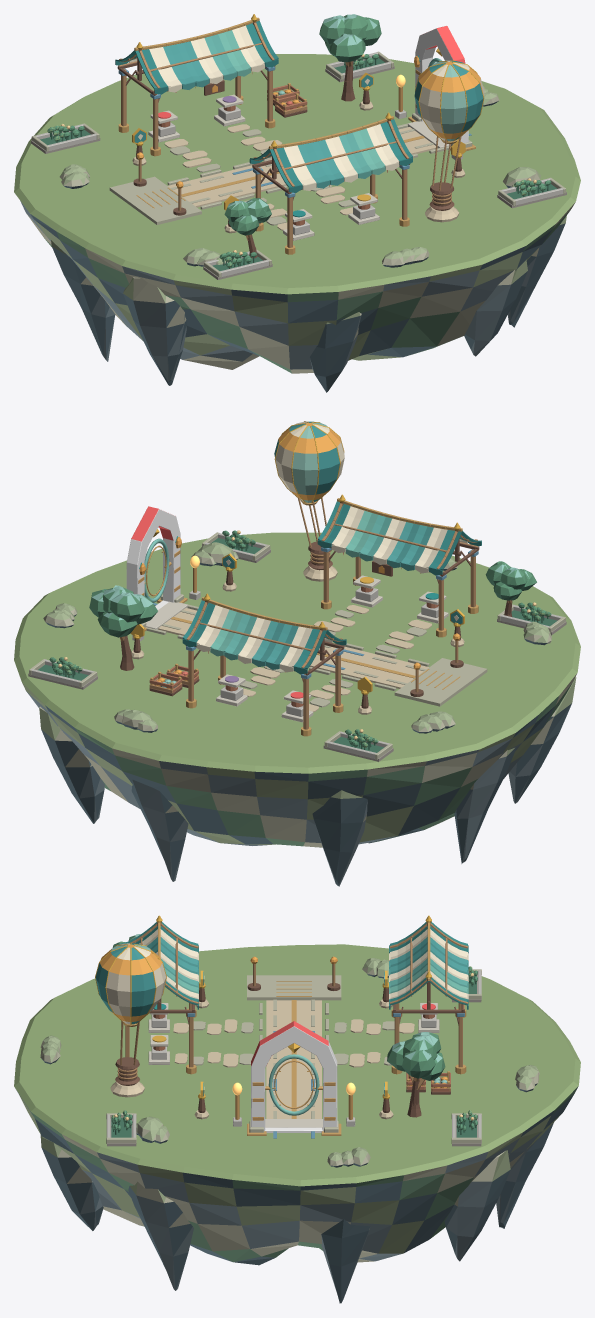
File: SM_SkyIsland_Shop.fbx
3 views of the same model, one above another, from view 1: azimuth 30°, elevation 25°; view 2: azimuth 150°, elevation 25°; view 3: azimuth 270°, elevation 25° (orthographic).
Parts seen in each view (by area): view 1: SM_SkyIsland_Shop; view 2: SM_SkyIsland_Shop; view 3: SM_SkyIsland_Shop.
Part boxes in pixels (<box>): SM_SkyIsland_Shop: <box>14,14,580,392</box>; SM_SkyIsland_Shop: <box>14,421,580,886</box>; SM_SkyIsland_Shop: <box>14,915,580,1303</box>.
Size of the model in its own units: 2406 by 2398 by 1526.
